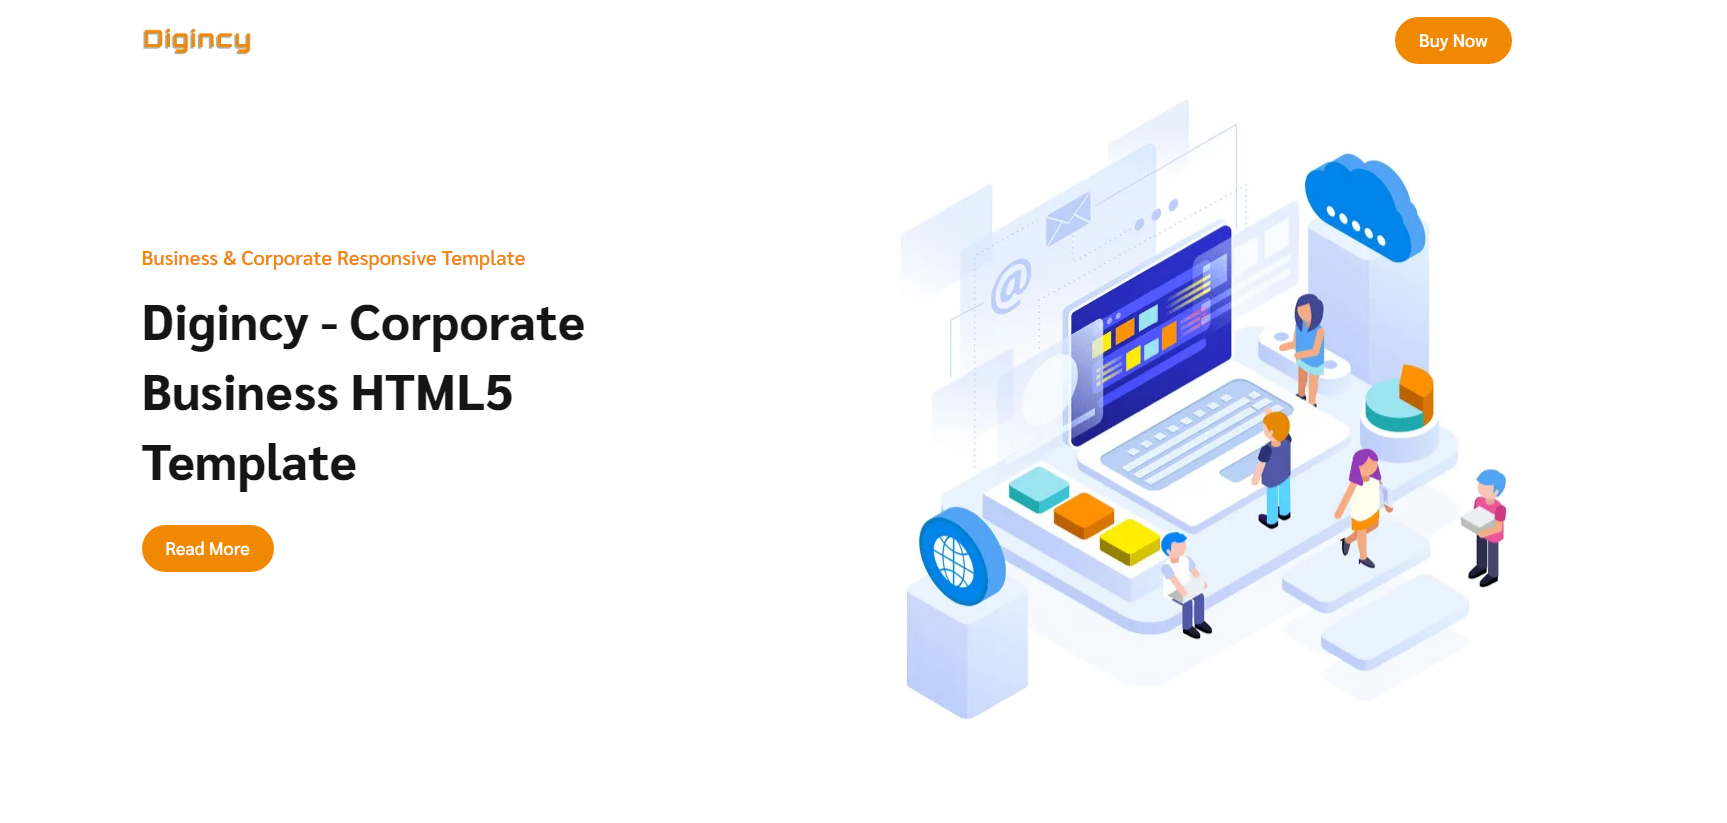menu: (36, 22, 1703, 183)
